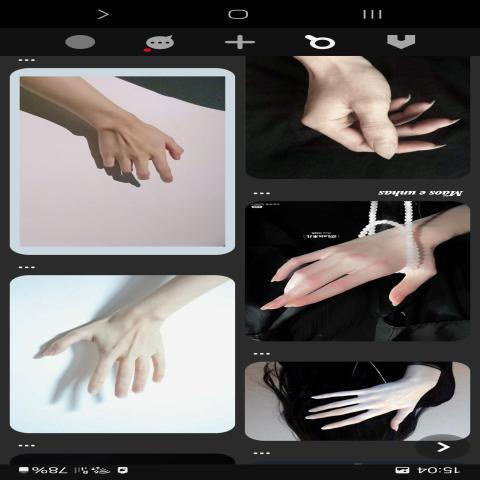Hands: (256, 215, 464, 329), (274, 59, 463, 176), (24, 289, 188, 420), (74, 91, 196, 201), (276, 372, 436, 438)
